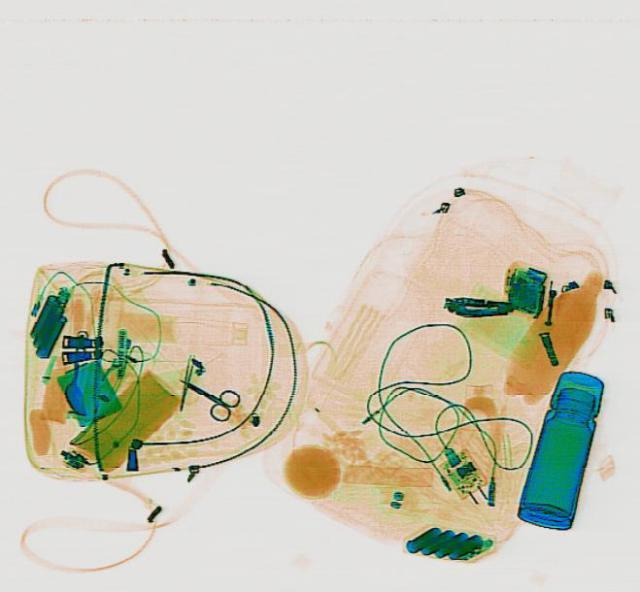Scissors: (168, 364, 244, 421)
